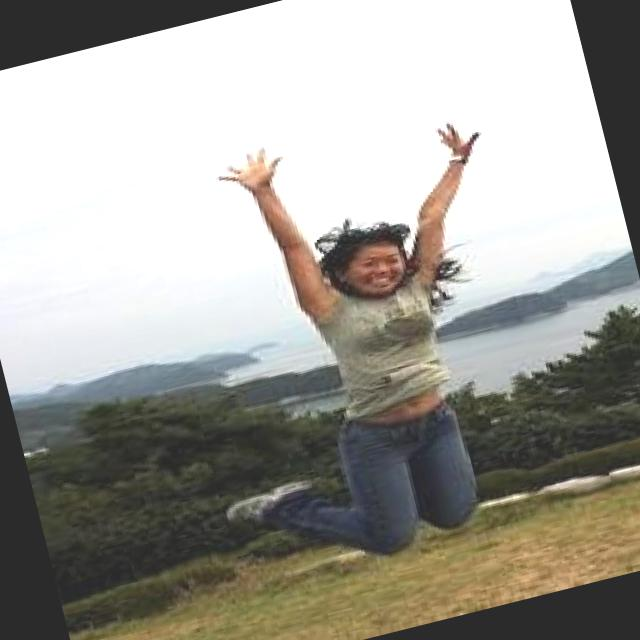no_vest: (309, 274, 462, 442)
